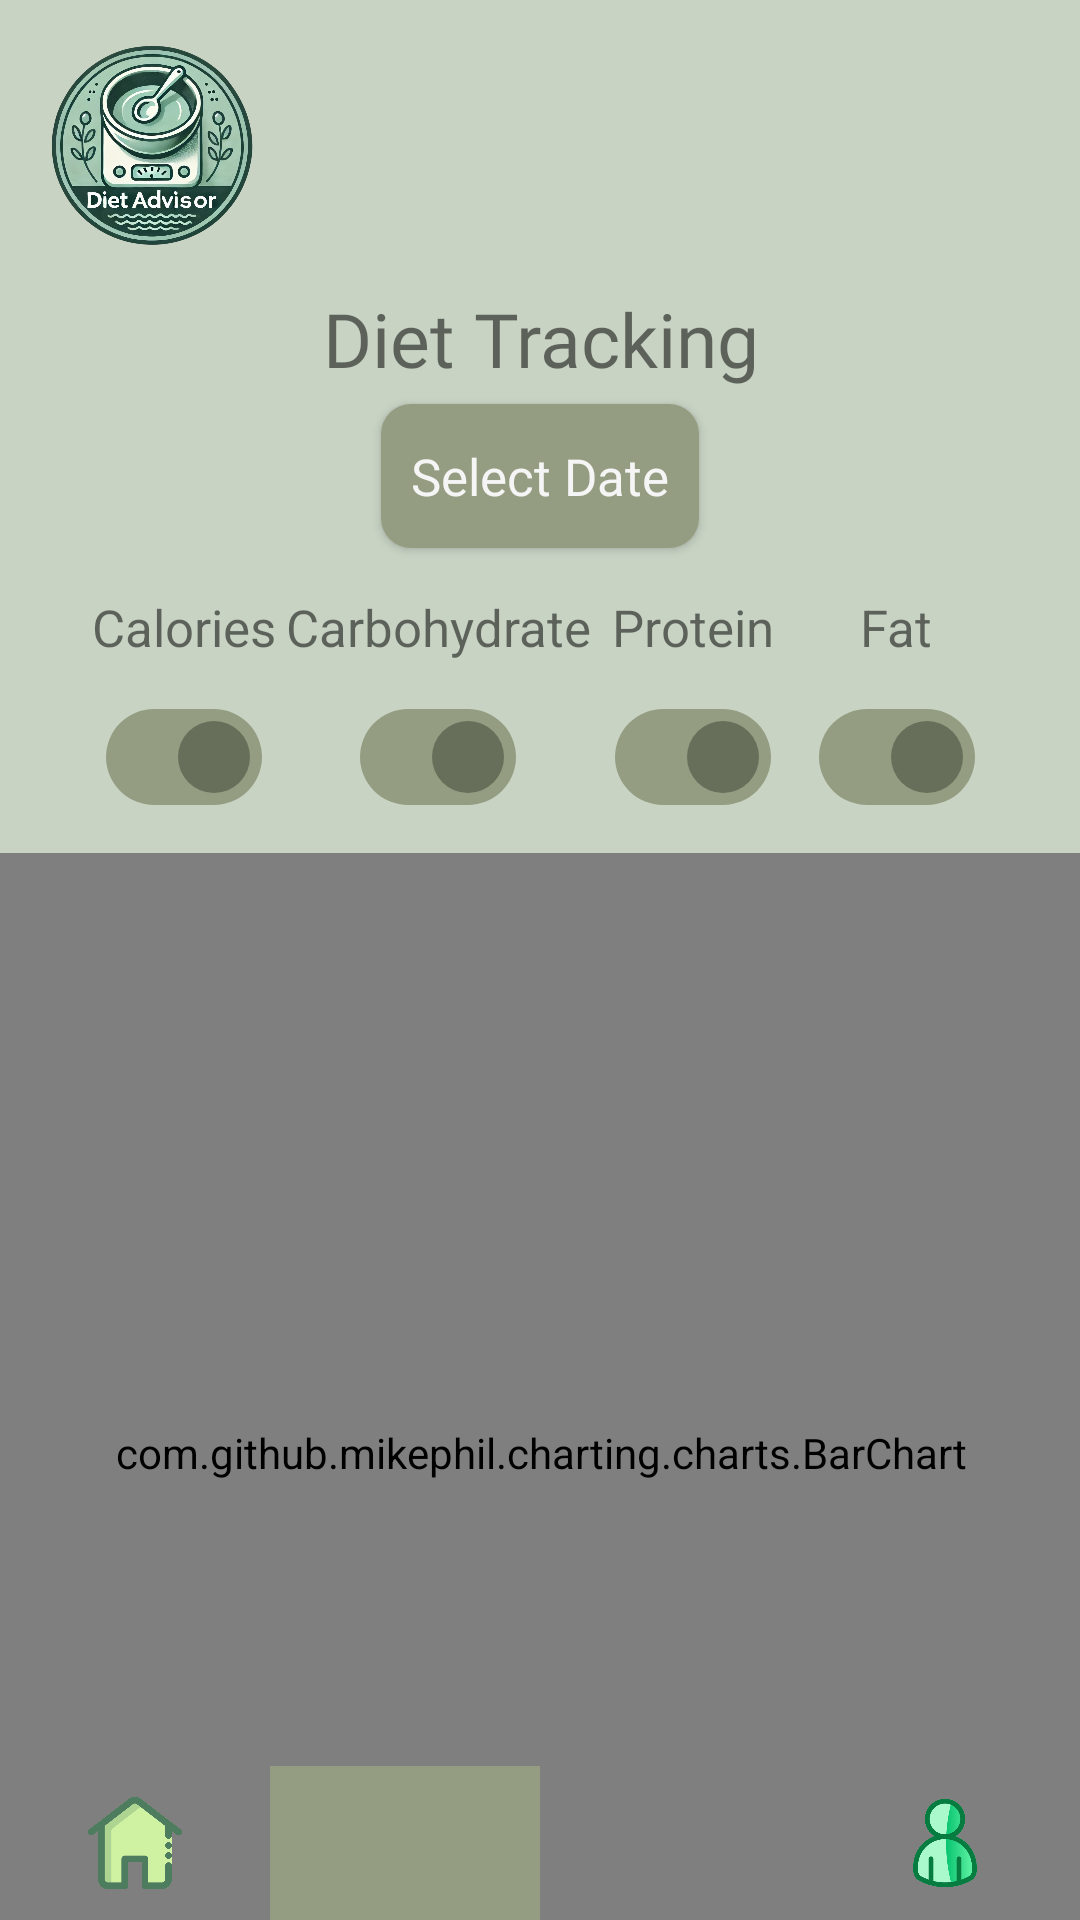

Icon bounding boxes for this 1080px×1920px phone screenshot, format (x1, y1, x2, y2):
home: (88, 1797, 182, 1889)
user: (913, 1799, 977, 1887)
